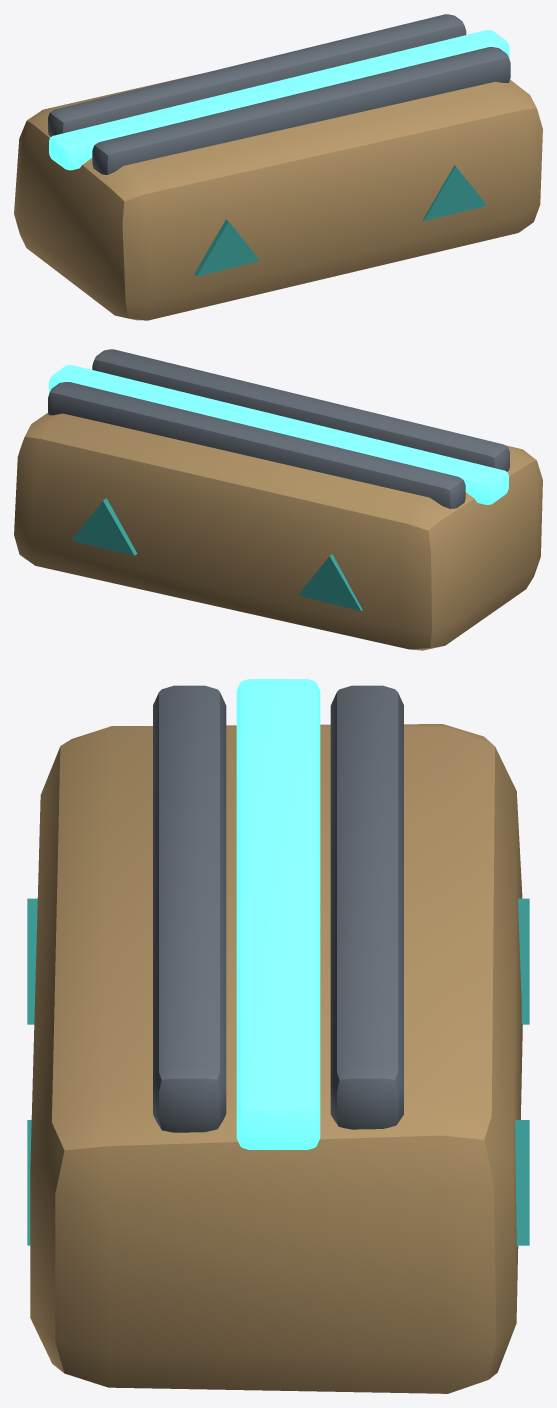
The model's file is deco_conduit_stone_straight.fbx.
3 views of the same model, one above another, from view 1: azimuth 30°, elevation 25°; view 2: azimuth 150°, elevation 25°; view 3: azimuth 270°, elevation 25° (orthographic). The views are drawn at different scales.
Visible parts, largest first — view 1: ConduitStone_Straight_Stone, ConduitStone_Straight_Lips, ConduitStone_Straight_GlowLine, ConduitStone_Straight_Glyphs; view 2: ConduitStone_Straight_Stone, ConduitStone_Straight_Lips, ConduitStone_Straight_GlowLine, ConduitStone_Straight_Glyphs; view 3: ConduitStone_Straight_Stone, ConduitStone_Straight_Lips, ConduitStone_Straight_GlowLine, ConduitStone_Straight_Glyphs.
Boxes of the visible parts, left/top/right/bottom form: ConduitStone_Straight_Stone: left=14, top=73, right=542, bottom=320; ConduitStone_Straight_Lips: left=48, top=14, right=510, bottom=174; ConduitStone_Straight_GlowLine: left=49, top=30, right=509, bottom=170; ConduitStone_Straight_Glyphs: left=194, top=165, right=486, bottom=276; ConduitStone_Straight_Stone: left=14, top=413, right=542, bottom=650; ConduitStone_Straight_Lips: left=48, top=349, right=509, bottom=508; ConduitStone_Straight_GlowLine: left=49, top=365, right=508, bottom=504; ConduitStone_Straight_Glyphs: left=71, top=498, right=362, bottom=610; ConduitStone_Straight_Stone: left=30, top=724, right=522, bottom=1393; ConduitStone_Straight_Lips: left=153, top=685, right=403, bottom=1132; ConduitStone_Straight_GlowLine: left=236, top=679, right=320, bottom=1149; ConduitStone_Straight_Glyphs: left=27, top=898, right=529, bottom=1245.
Bounding box in the file's own units: 98 × 35.1 × 48.
